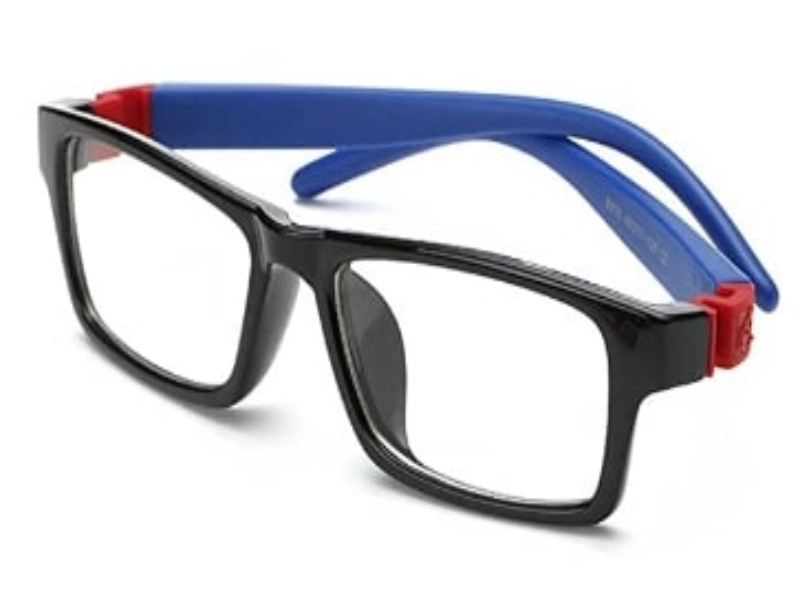goggles: (41, 106, 671, 523)
